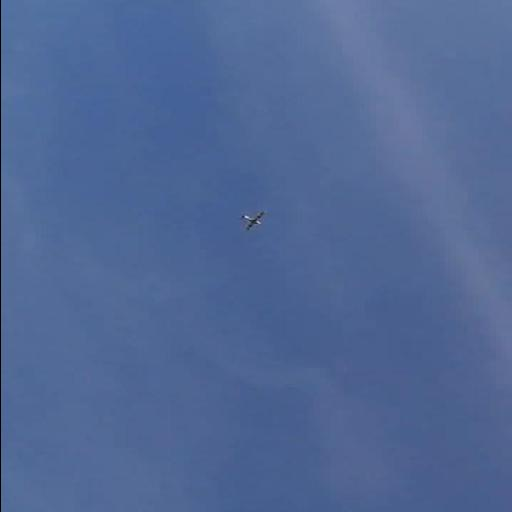uav: (232, 208, 266, 232)
